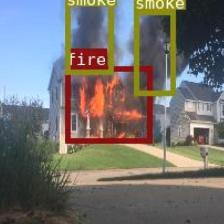fire: (64, 66, 152, 142)
smoke: (132, 10, 174, 94), (64, 0, 112, 73)
